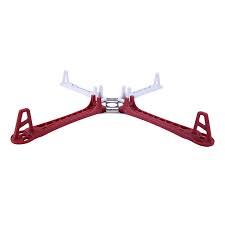drone: (13, 61, 218, 157)
